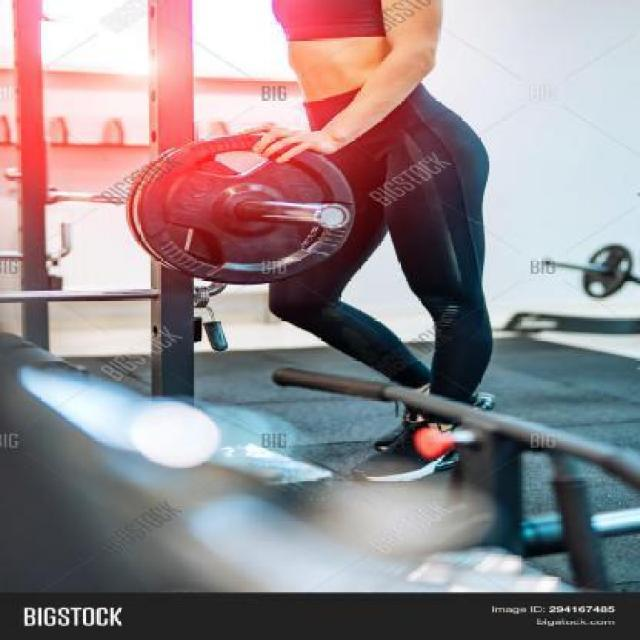Barbell: (313, 198, 362, 236)
